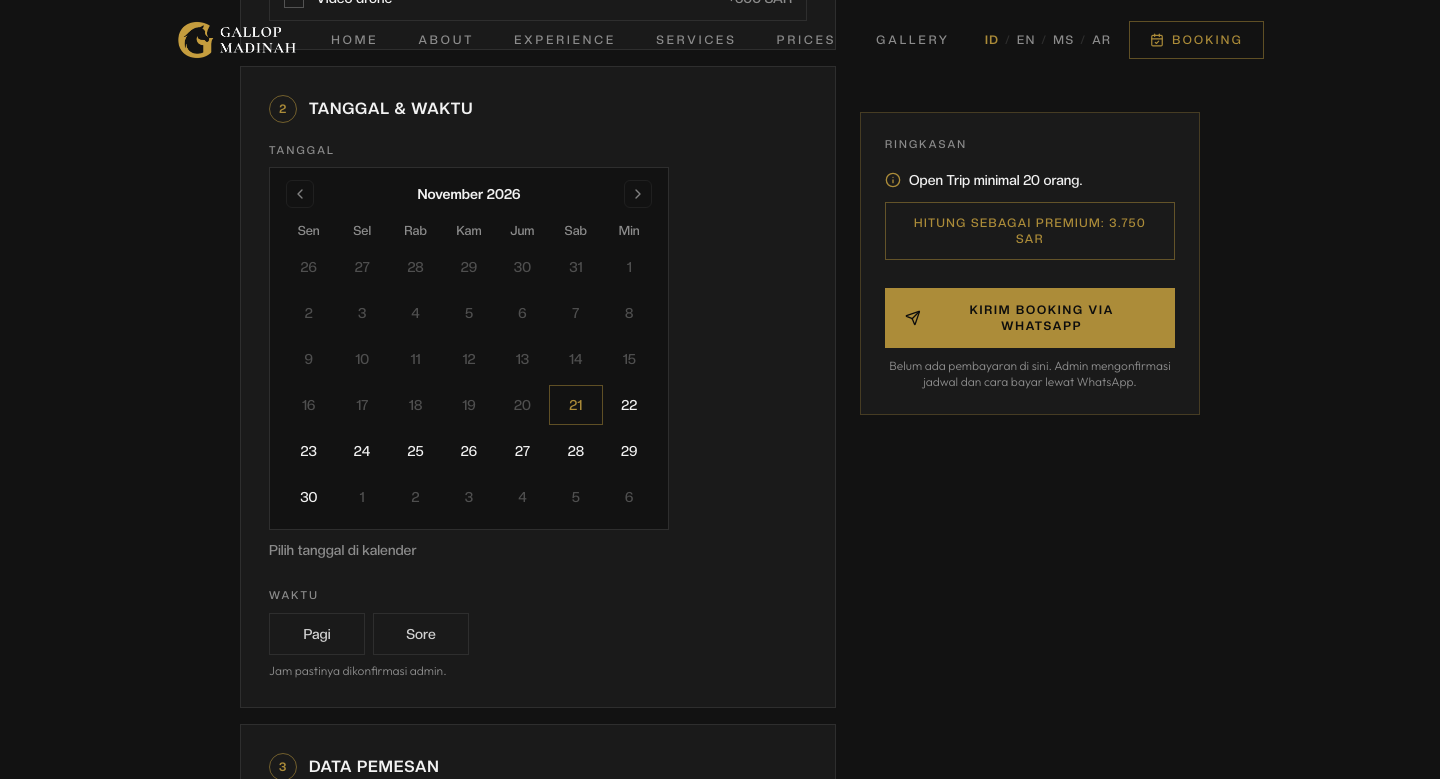
Test: BookingPage › will not send an Open Trip booking below its minimum group
The image size is (1440, 779).
(page scrolled)
Click the cell "21" at (576, 405), box left=549, top=385, right=602, bottom=425
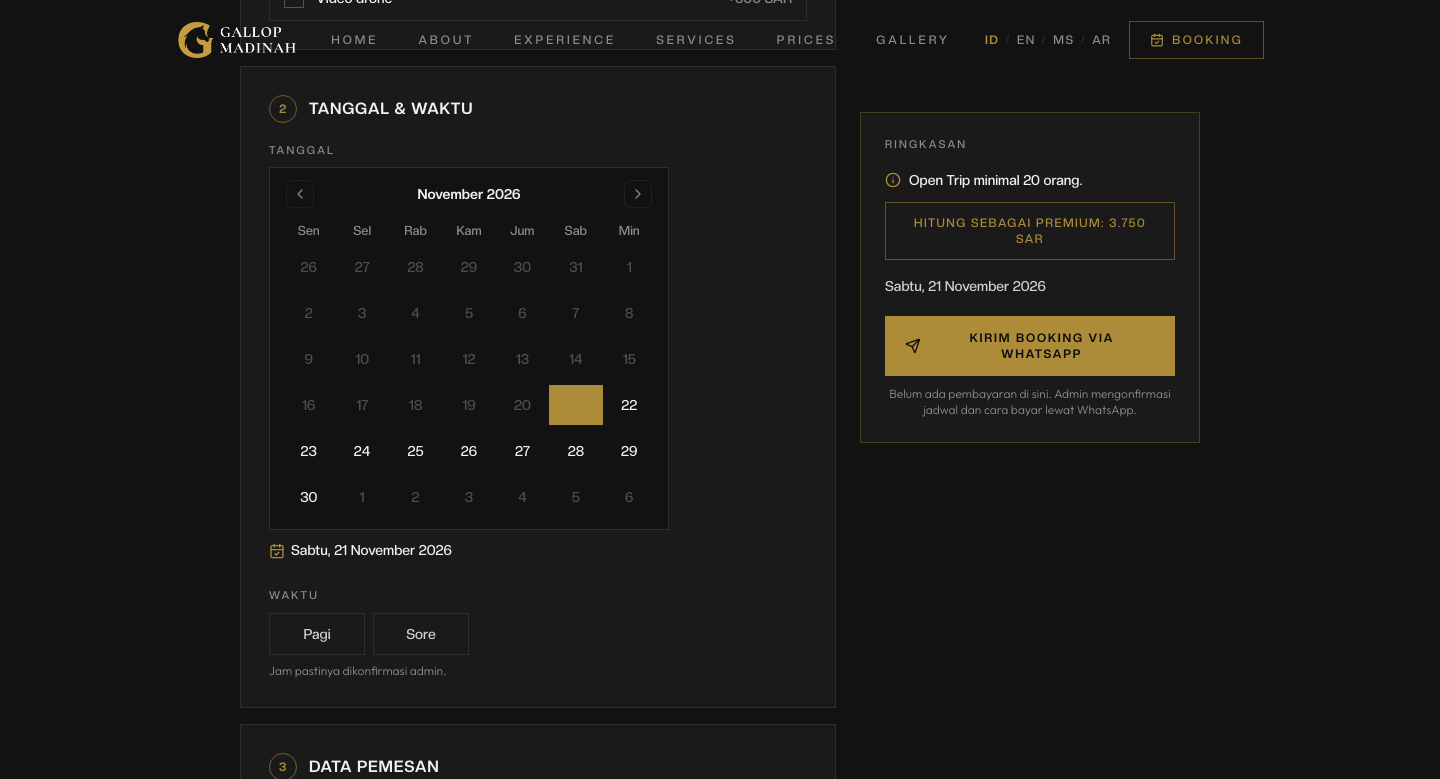
Click the button "Sore" at (421, 634), box left=373, top=613, right=469, bottom=655
(page scrolled)
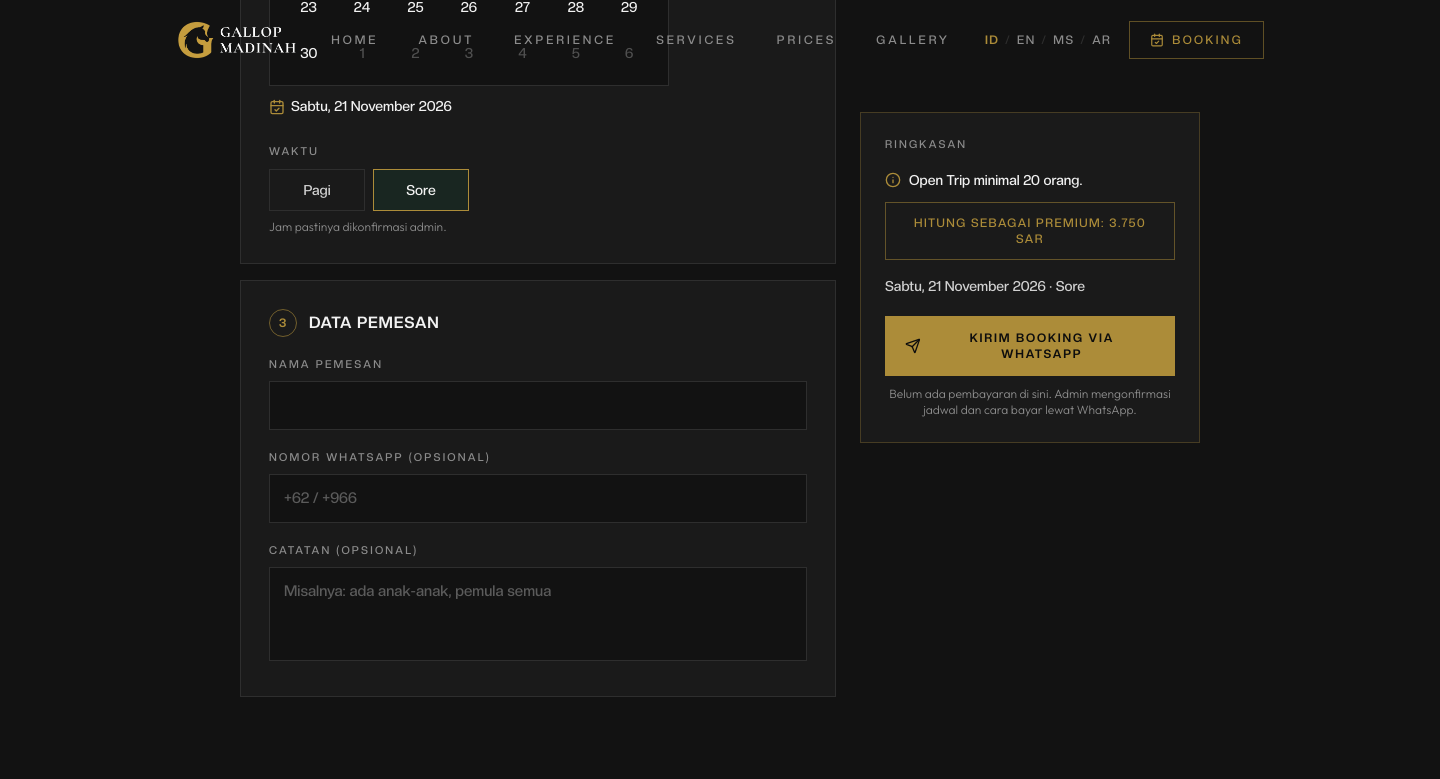
Type "Budi" into the field labelled "Nama pemesan" at (538, 405), box left=269, top=381, right=807, bottom=430
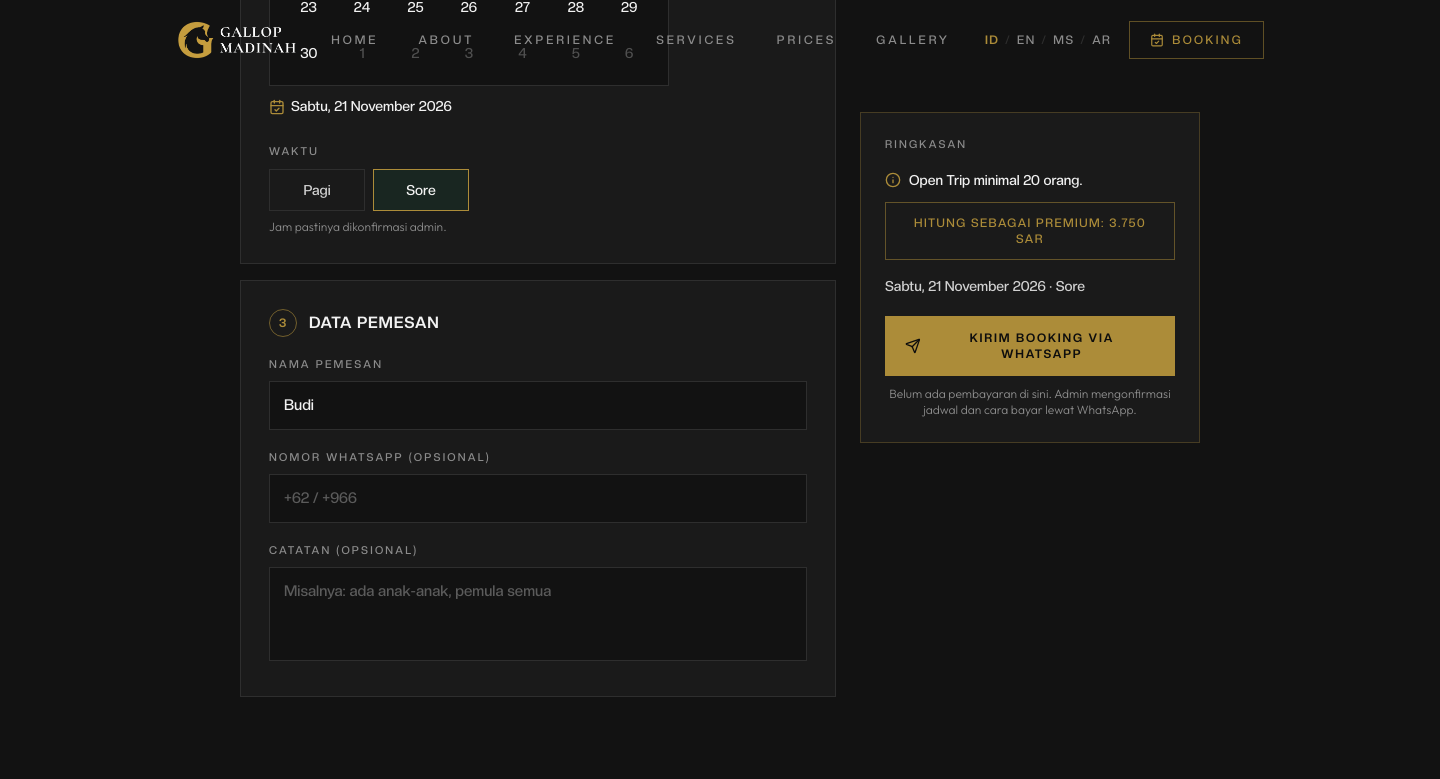
Click the button "Kirim booking via WhatsApp" at (1030, 346), box left=885, top=316, right=1175, bottom=376
(page scrolled)
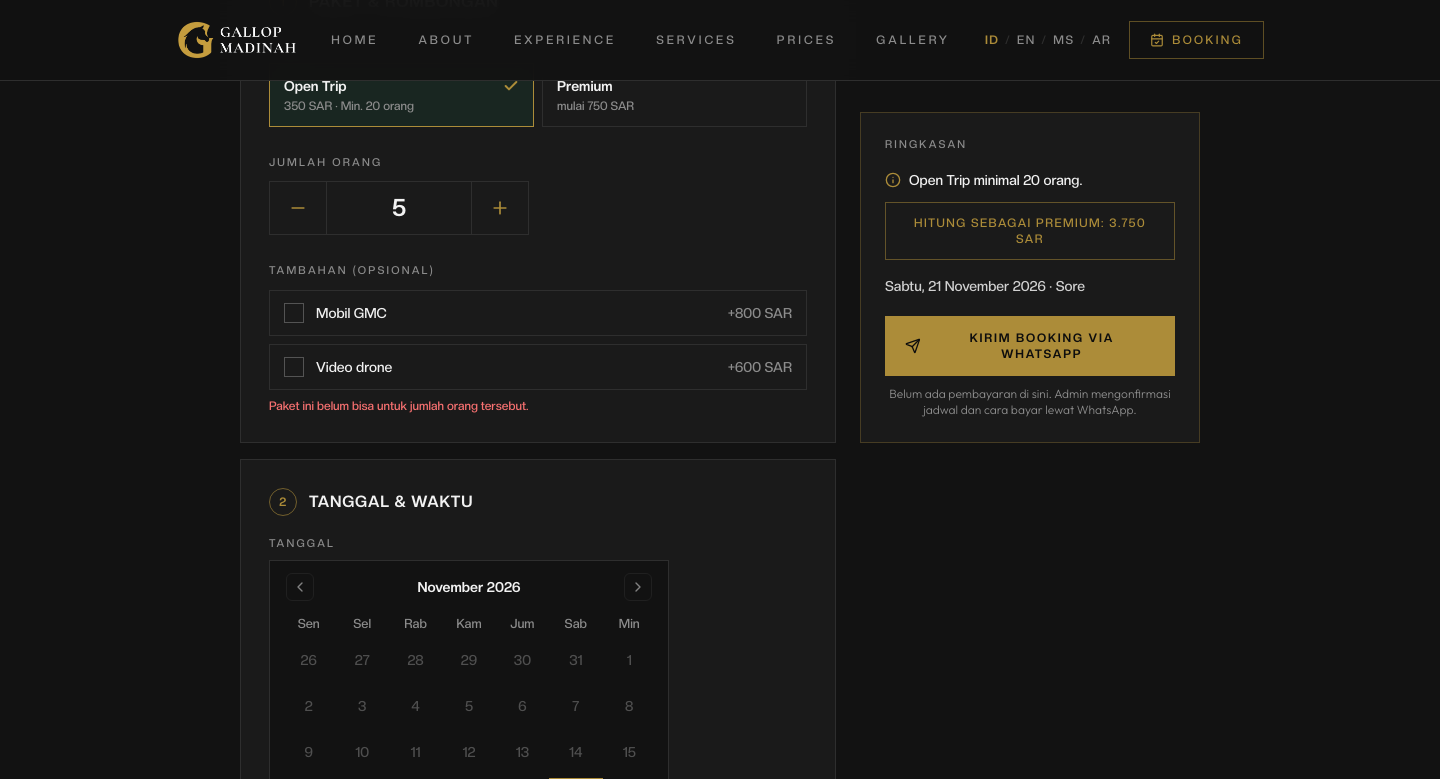
Check: the text "Paket ini belum bisa untuk jumlah orang tersebut." is shown, box left=269, top=398, right=529, bottom=412
